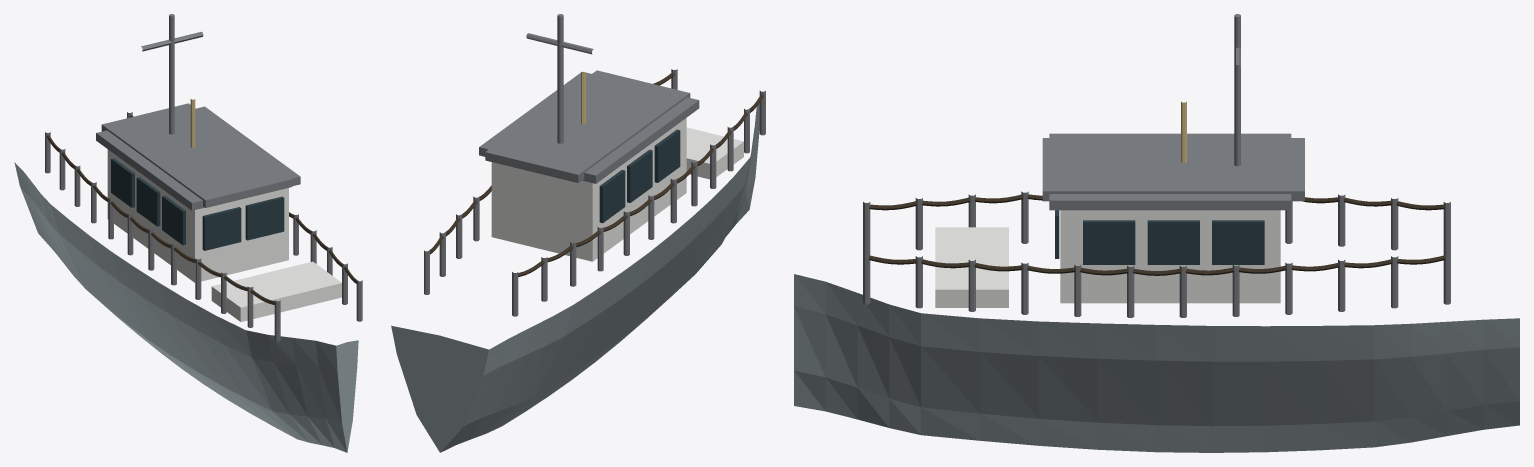
Rendered from pilot-launch.gltf.
3 views of the same model, side by side, from view 1: azimuth 30°, elevation 25°; view 2: azimuth 150°, elevation 25°; view 3: azimuth 270°, elevation 25° (orthographic). The views are drawn at different scales.
Visible parts, largest first — view 1: pilot-launch-hull, pilot-launch-wheelhouse, pilot-launch-low-wheelhouse; view 2: pilot-launch-hull, pilot-launch-wheelhouse, pilot-launch-low-wheelhouse; view 3: pilot-launch-hull, pilot-launch-wheelhouse, pilot-launch-low-wheelhouse.
Boxes of the visible parts, x1,y1,x2,y2 form: pilot-launch-hull: (14, 162, 358, 452); pilot-launch-wheelhouse: (45, 14, 362, 341); pilot-launch-low-wheelhouse: (47, 103, 357, 304); pilot-launch-hull: (391, 103, 759, 452); pilot-launch-wheelhouse: (424, 14, 765, 316); pilot-launch-low-wheelhouse: (429, 70, 763, 276); pilot-launch-hull: (794, 274, 1519, 452); pilot-launch-wheelhouse: (863, 14, 1450, 317); pilot-launch-low-wheelhouse: (868, 138, 1445, 275).
Bounding box in the file's own units: 1.54 × 3.59 × 5.4.
